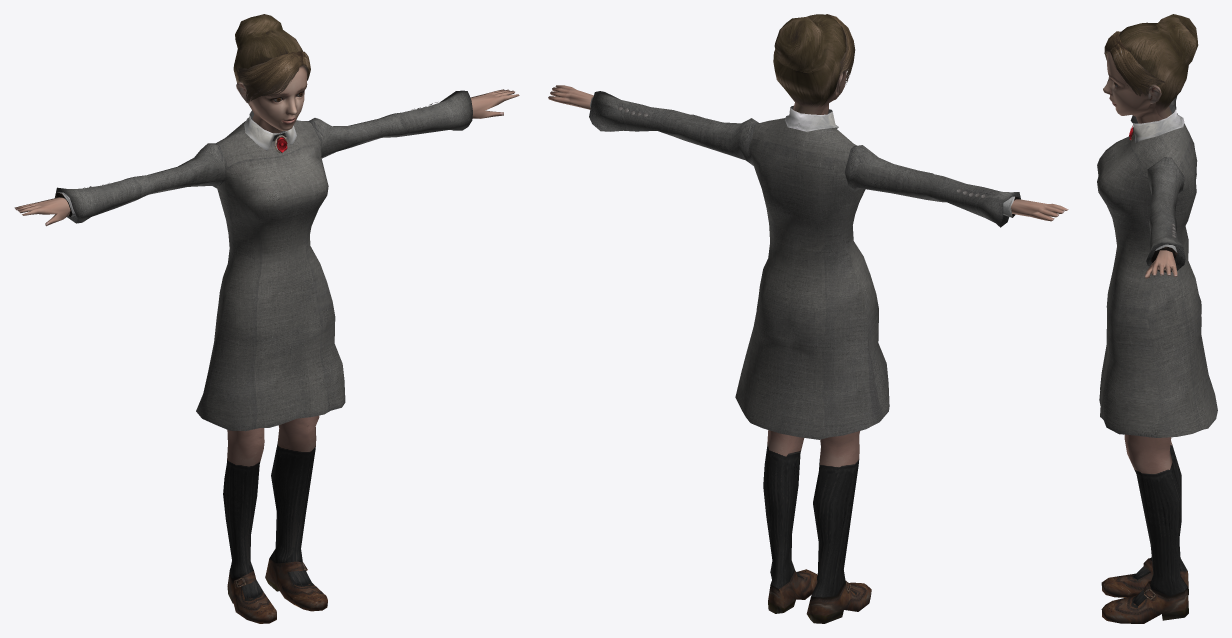
File: jennifer2.obj
The picture shows the model from 3 angles, left to right: view 1: azimuth 30°, elevation 25°; view 2: azimuth 150°, elevation 25°; view 3: azimuth 270°, elevation 25°; orthographic projection. The views are drawn at different scales.
Visible parts, largest first — view 1: Model001_3_torso(1)_1_0_0.001, Model001_3_legs_1_0_0.001, Model001_3_arms_1_0_0.001, Model001_24_shoes_1_0_0.001, Model001_24_hair_1_0_0.001, Model001_3_face_1_0_0.001, Model001_25_hair-transparent_0.1_0_0.001, Model001_3_hands_1_0_0.001, Model001_3_collar_1_0_0.001; view 2: Model001_3_torso(1)_1_0_0.001, Model001_3_arms_1_0_0.001, Model001_3_legs_1_0_0.001, Model001_24_hair_1_0_0.001, Model001_24_shoes_1_0_0.001, Model001_3_hands_1_0_0.001, Model001_3_collar_1_0_0.001; view 3: Model001_3_torso(1)_1_0_0.001, Model001_3_legs_1_0_0.001, Model001_24_hair_1_0_0.001, Model001_24_shoes_1_0_0.001, Model001_3_arms_1_0_0.001, Model001_3_face_1_0_0.001, Model001_25_hair-transparent_0.1_0_0.001, Model001_3_collar_1_0_0.001, Model001_3_hands_1_0_0.001, Model001_3_sleeves_1_0_0.001.
Boxes of the visible parts, x1,y1,x2,y2 form: Model001_3_torso(1)_1_0_0.001: [196, 120, 345, 431]; Model001_3_legs_1_0_0.001: [223, 415, 319, 598]; Model001_3_arms_1_0_0.001: [55, 90, 472, 223]; Model001_24_shoes_1_0_0.001: [227, 558, 327, 623]; Model001_24_hair_1_0_0.001: [233, 14, 302, 112]; Model001_3_face_1_0_0.001: [236, 65, 307, 133]; Model001_25_hair-transparent_0.1_0_0.001: [237, 51, 310, 101]; Model001_3_hands_1_0_0.001: [14, 89, 519, 226]; Model001_3_collar_1_0_0.001: [244, 110, 296, 150]; Model001_3_torso(1)_1_0_0.001: [735, 118, 889, 439]; Model001_3_arms_1_0_0.001: [589, 91, 1020, 227]; Model001_3_legs_1_0_0.001: [763, 430, 859, 597]; Model001_24_hair_1_0_0.001: [773, 14, 846, 114]; Model001_24_shoes_1_0_0.001: [768, 569, 871, 623]; Model001_3_hands_1_0_0.001: [548, 85, 1068, 221]; Model001_3_collar_1_0_0.001: [784, 105, 838, 131]; Model001_3_torso(1)_1_0_0.001: [1097, 123, 1217, 437]; Model001_3_legs_1_0_0.001: [1124, 434, 1187, 606]; Model001_24_hair_1_0_0.001: [1119, 14, 1198, 119]; Model001_24_shoes_1_0_0.001: [1101, 558, 1188, 623]; Model001_3_arms_1_0_0.001: [1146, 96, 1185, 272]; Model001_3_face_1_0_0.001: [1103, 51, 1162, 123]; Model001_25_hair-transparent_0.1_0_0.001: [1104, 31, 1164, 96]; Model001_3_collar_1_0_0.001: [1130, 104, 1184, 143]; Model001_3_hands_1_0_0.001: [1144, 250, 1177, 278]; Model001_3_sleeves_1_0_0.001: [1151, 244, 1177, 262].
Bounding box in the file's own units: 1.54 × 1.71 × 0.3189.
